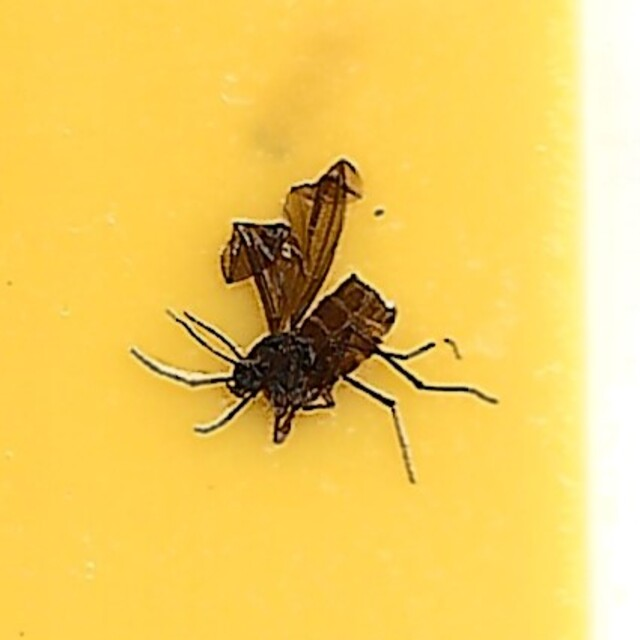Nematocera: (151, 158, 489, 482)
